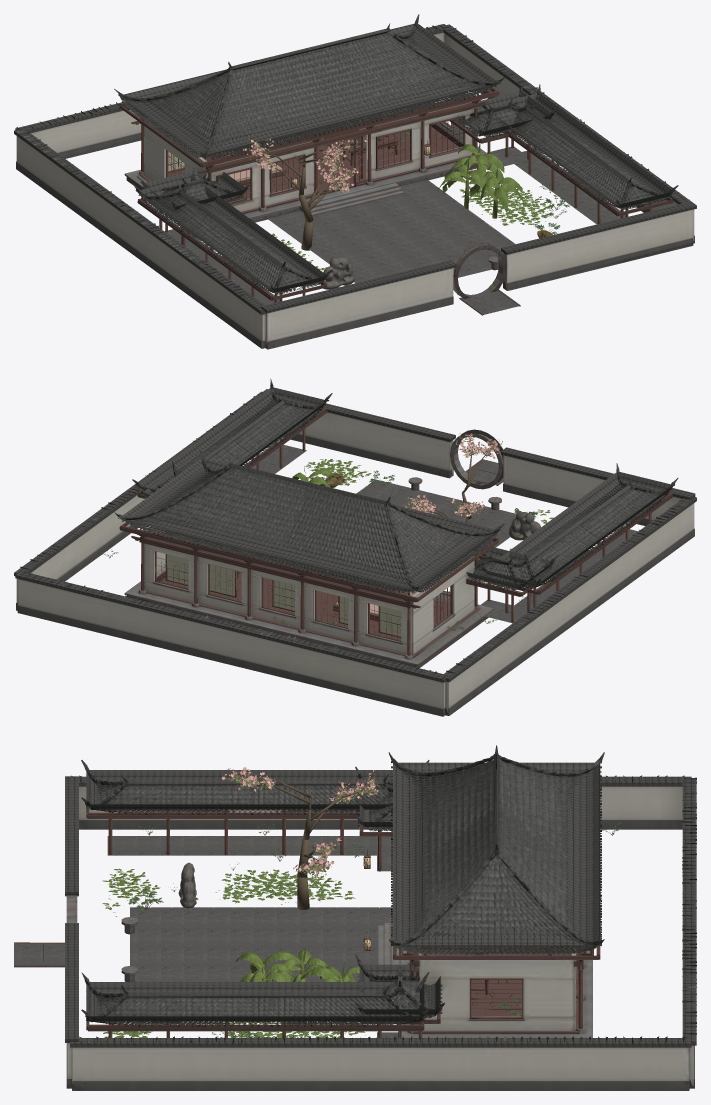
File: reference-public_models_places-low_yihongyuan.glb
3 renders of one model, top to bottom at view 1: azimuth 30°, elevation 25°; view 2: azimuth 150°, elevation 25°; view 3: azimuth 270°, elevation 25°, orthographic. The views are drawn at different scales.
Parts seen in each view (by area): view 1: Mobile_yihongyuan, Mobile_yihongyuan_roof, Mobile_yihongyuan_roofshell, Mobile_yihongyuan_paving, Mobile_yihongyuan_floorwood, Mobile_yihongyuan_botanical_banana, Mobile_yihongyuan_botanical_bamboo, Mobile_yihongyuan_plants, Mobile_yihongyuan_botanical_petal, Mobile_yihongyuan_courtbase, Mobile_yihongyuan_gardenstone; view 2: Mobile_yihongyuan, Mobile_yihongyuan_roof, Mobile_yihongyuan_roofshell, Mobile_yihongyuan_paving, yihongyuan_screen.002, Mobile_yihongyuan_floorwood, Mobile_yihongyuan_botanical_petal, Mobile_yihongyuan_botanical_bamboo, Mobile_yihongyuan_plants, Mobile_yihongyuan_gardenstone; view 3: Mobile_yihongyuan, Mobile_yihongyuan_roofshell, Mobile_yihongyuan_roof, Mobile_yihongyuan_paving, Mobile_yihongyuan_botanical_bamboo, Mobile_yihongyuan_floorwood, Mobile_yihongyuan_plants, Mobile_yihongyuan_botanical_banana, Mobile_yihongyuan_botanical_petal, Mobile_yihongyuan_courtbase, Mobile_yihongyuan_gardenstone.
Part boxes in pixels (left/top/right/bottom): Mobile_yihongyuan: left=16, top=32, right=694, bottom=349; Mobile_yihongyuan_roof: left=16, top=14, right=689, bottom=310; Mobile_yihongyuan_roofshell: left=14, top=24, right=696, bottom=314; Mobile_yihongyuan_paving: left=165, top=146, right=625, bottom=314; Mobile_yihongyuan_floorwood: left=140, top=126, right=471, bottom=213; Mobile_yihongyuan_botanical_banana: left=437, top=141, right=523, bottom=211; Mobile_yihongyuan_botanical_bamboo: left=249, top=142, right=554, bottom=270; Mobile_yihongyuan_plants: left=177, top=130, right=569, bottom=286; Mobile_yihongyuan_botanical_petal: left=243, top=138, right=358, bottom=193; Mobile_yihongyuan_courtbase: left=268, top=184, right=509, bottom=283; Mobile_yihongyuan_gardenstone: left=321, top=257, right=355, bottom=289; Mobile_yihongyuan: left=16, top=408, right=694, bottom=716; Mobile_yihongyuan_roof: left=20, top=378, right=696, bottom=678; Mobile_yihongyuan_roofshell: left=14, top=387, right=696, bottom=682; Mobile_yihongyuan_paving: left=244, top=444, right=637, bottom=623; yihongyuan_screen.002: left=167, top=531, right=407, bottom=636; Mobile_yihongyuan_floorwood: left=146, top=572, right=478, bottom=656; Mobile_yihongyuan_botanical_petal: left=403, top=433, right=502, bottom=516; Mobile_yihongyuan_botanical_bamboo: left=305, top=438, right=553, bottom=586; Mobile_yihongyuan_plants: left=100, top=441, right=538, bottom=635; Mobile_yihongyuan_gardenstone: left=508, top=512, right=540, bottom=540; Mobile_yihongyuan: left=14, top=786, right=694, bottom=1090; Mobile_yihongyuan_roofshell: left=65, top=762, right=696, bottom=1047; Mobile_yihongyuan_roof: left=71, top=745, right=696, bottom=1043; Mobile_yihongyuan_paving: left=14, top=836, right=398, bottom=1037; Mobile_yihongyuan_botanical_bamboo: left=102, top=773, right=376, bottom=1037; Mobile_yihongyuan_floorwood: left=414, top=946, right=579, bottom=1032; Mobile_yihongyuan_plants: left=128, top=775, right=620, bottom=1037; Mobile_yihongyuan_botanical_banana: left=236, top=946, right=359, bottom=1024; Mobile_yihongyuan_botanical_petal: left=221, top=767, right=378, bottom=878; Mobile_yihongyuan_courtbase: left=150, top=908, right=379, bottom=981; Mobile_yihongyuan_gardenstone: left=178, top=862, right=196, bottom=908.
Bounding box in the file's own units: 32.76 × 9.62 × 35.38.
17 materials, 13 textured.
